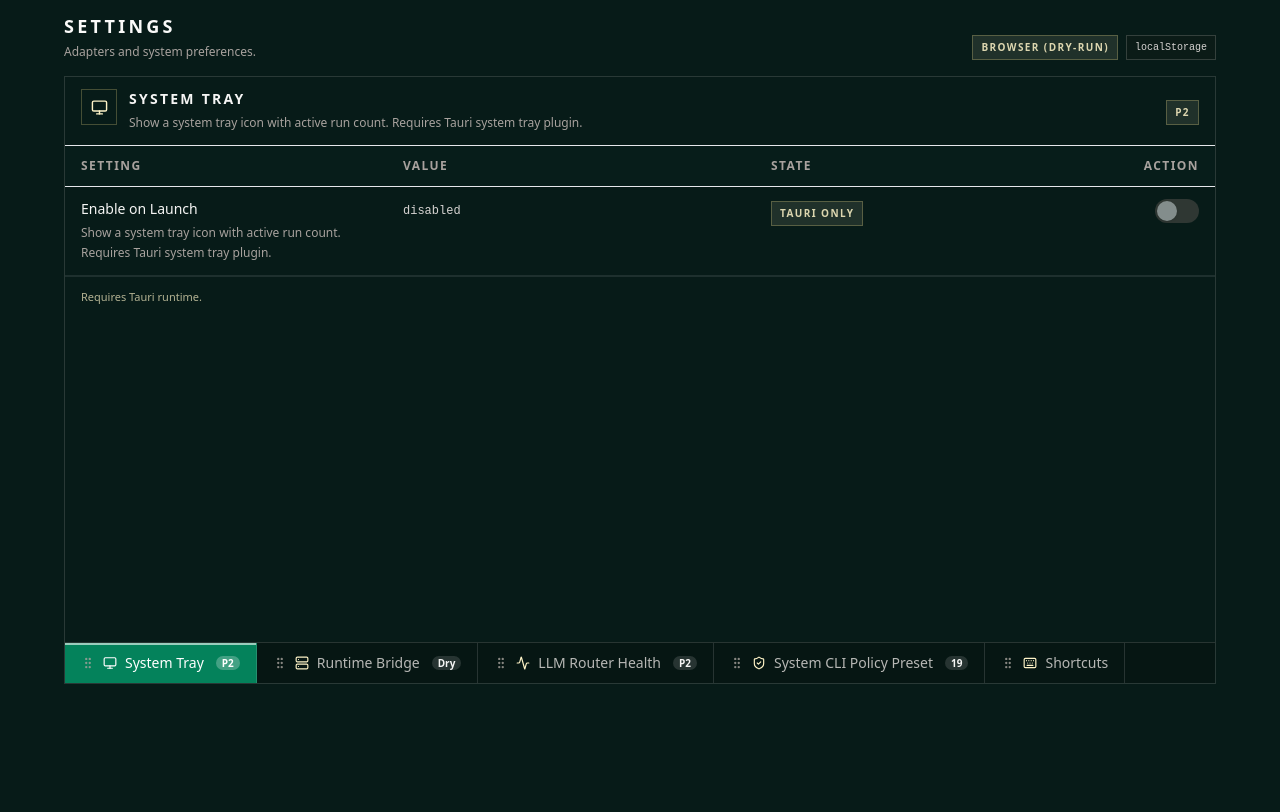
Test: SettingsView sheet layout › renders each settings block as a bottom sheet table
This screenshot has width=1280, height=812.
Check: the button with aria-label "System Tray sheet" is shown, box [65, 643, 257, 683]
Check: the button with aria-label "System CLI Policy Preset sheet" is shown, box [714, 643, 985, 683]
Click the button with aria-label "Runtime Bridge sheet".
click(368, 663)  # box [257, 643, 478, 683]
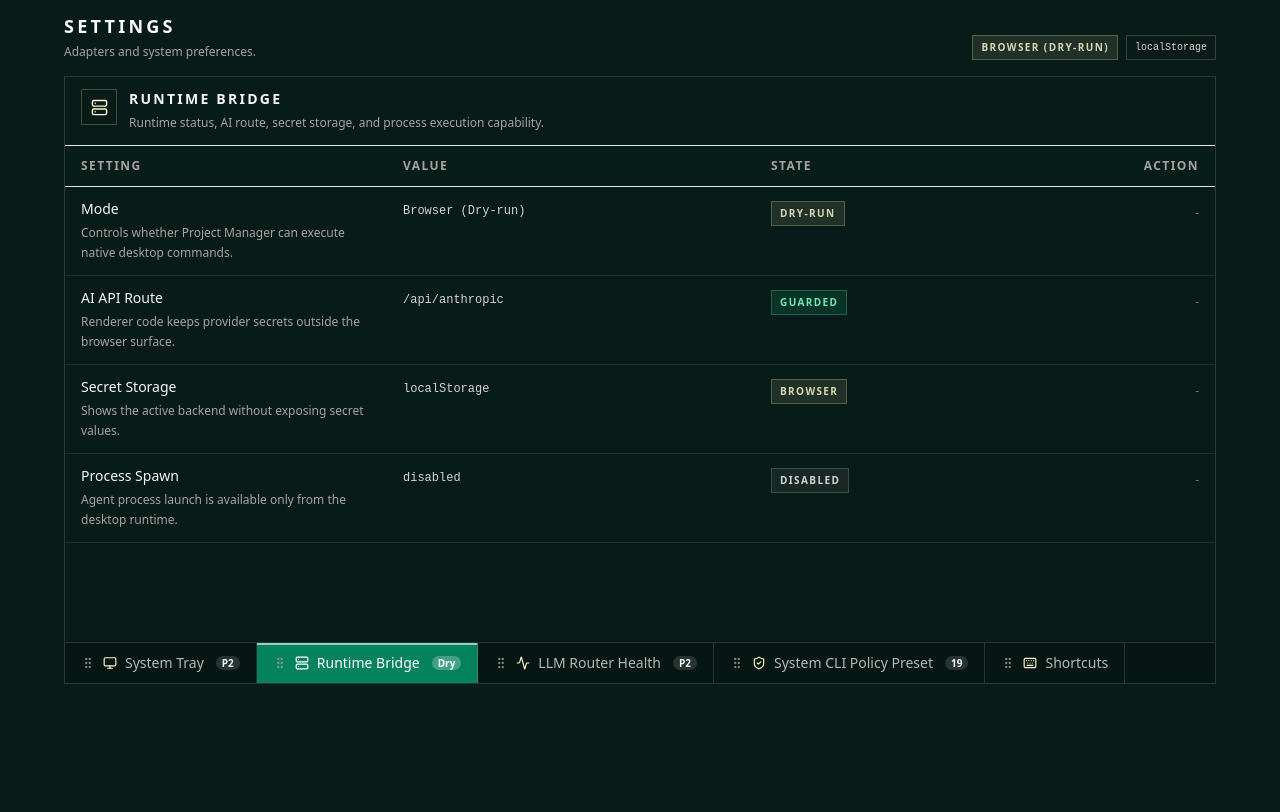
Check: the text "Mode" is shown, box [81, 199, 119, 218]
Check: the text "Process Spawn" is shown, box [81, 466, 179, 485]
Click the button with aria-label "System CLI Policy Preset sheet".
click(850, 663)  # box [714, 643, 985, 683]
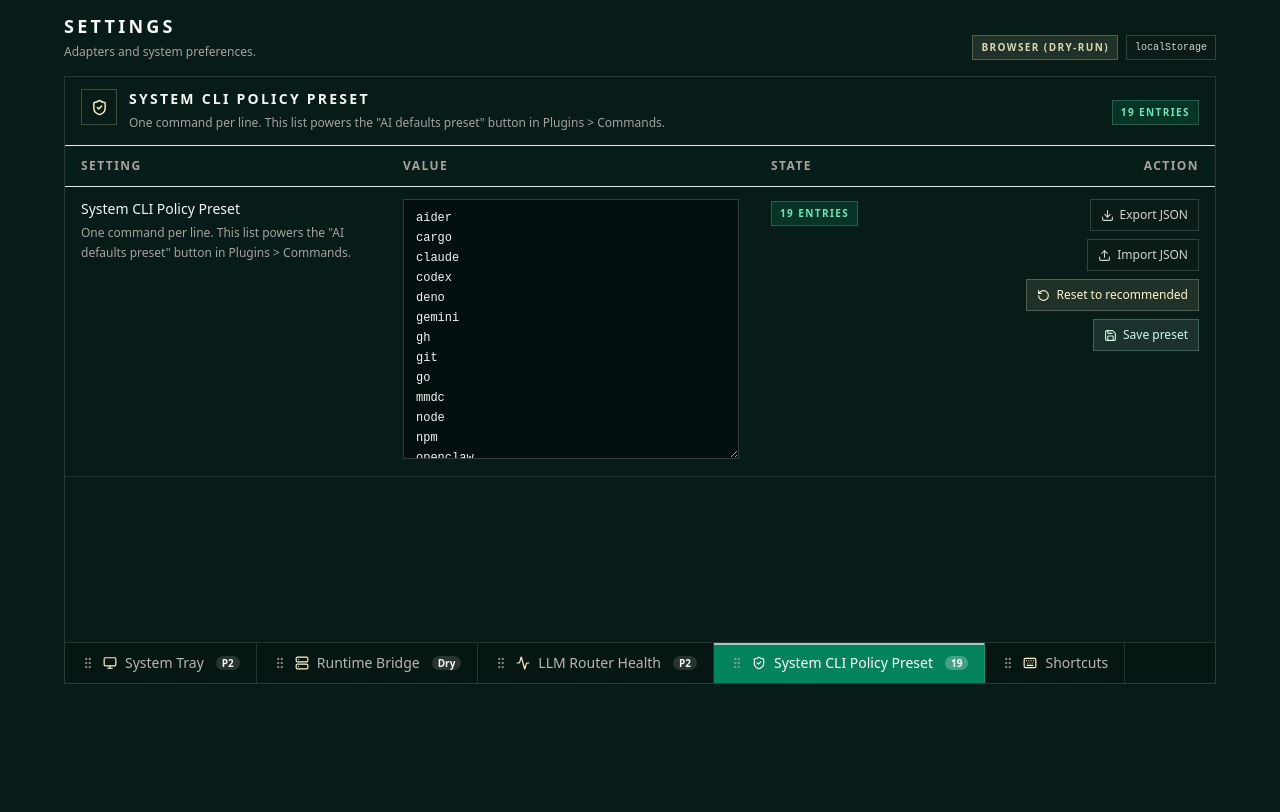
Check: the text box is shown, box [403, 199, 739, 459]
Check: the button "Export JSON" is shown, box [1090, 199, 1199, 231]
Check: the button "Import JSON" is shown, box [1087, 239, 1199, 271]
Click the button with aria-label "Shortcuts sheet".
click(1055, 663)  # box [986, 643, 1125, 683]
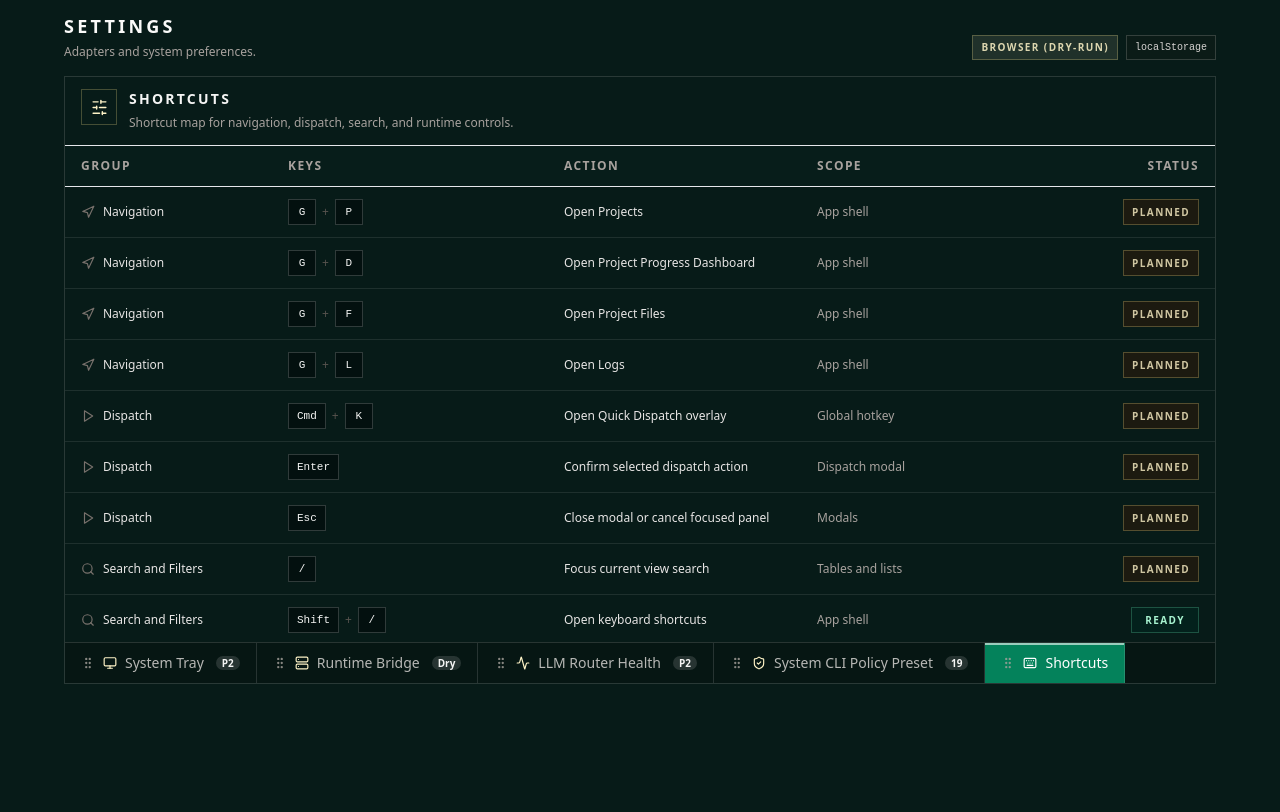
Check: the column heading "Group" is shown, box [65, 146, 272, 186]
Check: the column heading "Keys" is shown, box [272, 146, 548, 186]
Check: the text "Open Projects" is shown, box [548, 186, 801, 238]
